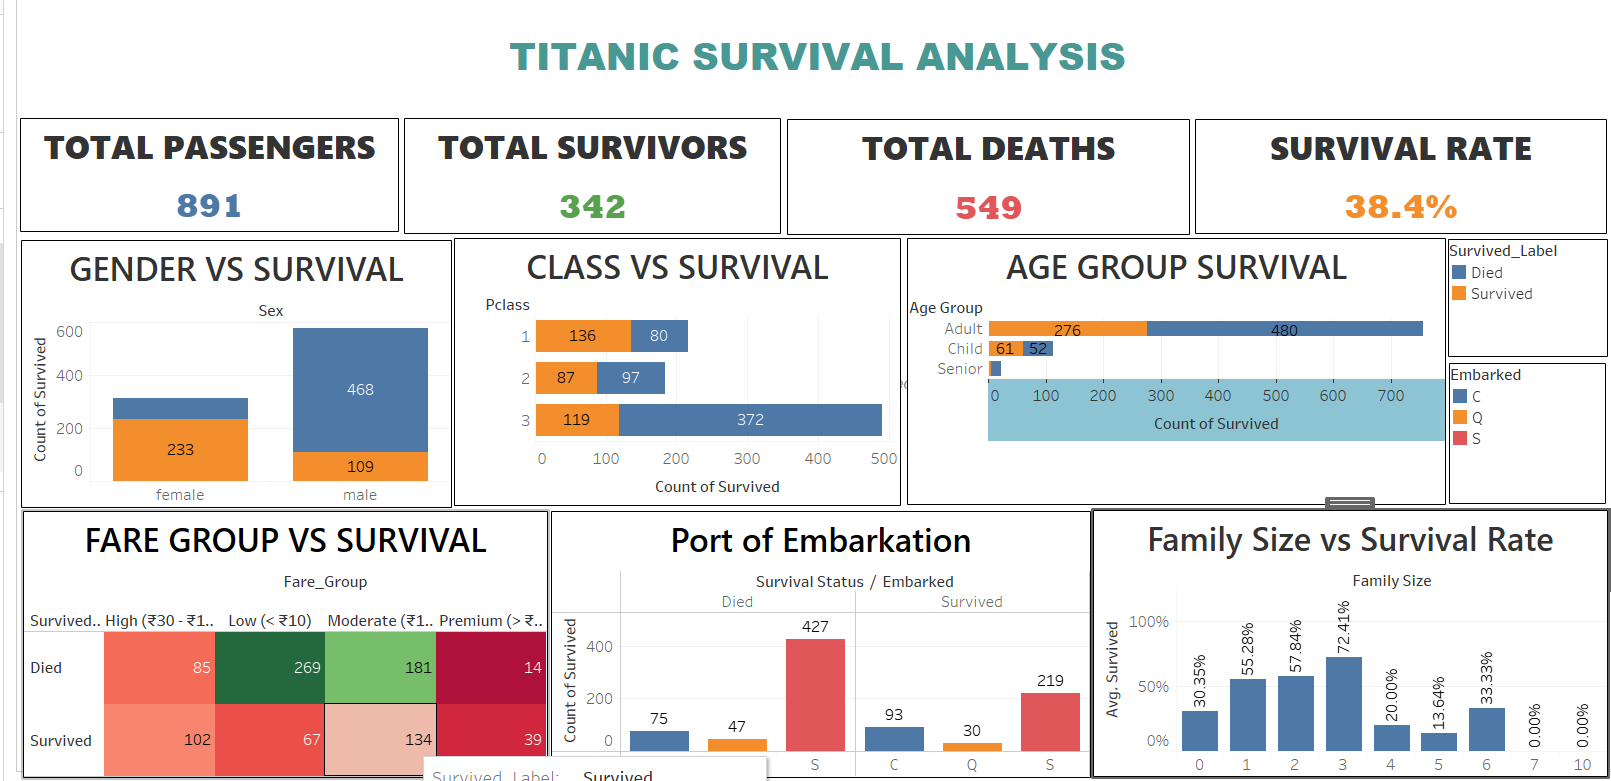

The dashboard page shown, as its layout file describes it:
{"tool":"tableau","page":{"name":"Dashboard 1","canvas":[1000,1000],"units":"permille","ordinal":0},"visuals":[{"type":"image","box":[4.9,10,990.1,980]},{"type":"text","box":[8,26.2,988.3,132.2]},{"type":"worksheet","title":"Total Passengers","mark":"Text","box":[9.9,169.6,234,142.1]},{"type":"worksheet","title":"Total Survivors","mark":"Text","box":[246.9,169.6,232.7,144.6]},{"type":"worksheet","title":"Total Deaths","mark":"Text","box":[483.3,170.8,248.8,144.6]},{"type":"worksheet","title":"Survival Rate","mark":"Text","box":[735.2,170.8,254.3,143.4]},{"type":"worksheet","title":"Class Vs Survival","mark":"Automatic","rows":["Pclass"],"cols":["Survived"],"box":[277.8,319.2,275.9,334.2]},{"type":"worksheet","title":"AGE GROUP SURVIVAL","mark":"Automatic","rows":["AgeGroup"],"cols":["Survived"],"box":[557.4,319.2,332.7,332.9]},{"type":"legend","title":"Gender Vs Survival","param":"[federated.05ukh8g14bf3x41dbr9s61lwwfgf].[none:Calculation_1446499925674323968:n","box":[891.4,320.4,98.8,147.1]},{"type":"worksheet","title":"Gender Vs Survival","mark":"Automatic","rows":["Survived"],"cols":["Sex"],"box":[10.5,321.7,266.1,334.2]},{"type":"legend","title":"Port of Embarkation","param":"[federated.05ukh8g14bf3x41dbr9s61lwwfgf].[none:Embarked:nk]","box":[892,475.1,96.9,175.8]},{"type":"worksheet","title":"Family Size vs Survival Rate","mark":"Automatic","rows":["Survived"],"cols":["FamilySize"],"box":[672.2,658.4,317.9,332.9]},{"type":"worksheet","title":"Fare Group vs Survival","mark":"Square","rows":["Calculation_1446499925674323968"],"cols":["Calculation_1446499925674528769"],"box":[11.7,659.6,324.1,332.9]},{"type":"worksheet","title":"Port of Embarkation","mark":"Automatic","rows":["Survived"],"cols":["SurvivalStatus","Embarked"],"box":[337.7,659.6,333.3,332.9]}]}

Visuals, with their boxes on the dashboard's canvas, which has no fixed pixel size, in thousandths of its width and height (x1, y1, x2, y2). These are canvas units, not pixel positions in the 1611x781 screenshot, which may show the page scaled, cropped or inside an application window:
image: x1=5 y1=10 x2=995 y2=990
text: x1=8 y1=26 x2=996 y2=158
"Total Passengers" worksheet (Text marks): x1=10 y1=170 x2=244 y2=312
"Total Survivors" worksheet (Text marks): x1=247 y1=170 x2=480 y2=314
"Total Deaths" worksheet (Text marks): x1=483 y1=171 x2=732 y2=315
"Survival Rate" worksheet (Text marks): x1=735 y1=171 x2=990 y2=314
"Class Vs Survival" worksheet: x1=278 y1=319 x2=554 y2=653
"AGE GROUP SURVIVAL" worksheet: x1=557 y1=319 x2=890 y2=652
"Gender Vs Survival" legend: x1=891 y1=320 x2=990 y2=468
"Gender Vs Survival" worksheet: x1=10 y1=322 x2=277 y2=656
"Port of Embarkation" legend: x1=892 y1=475 x2=989 y2=651
"Family Size vs Survival Rate" worksheet: x1=672 y1=658 x2=990 y2=991
"Fare Group vs Survival" worksheet (Square marks): x1=12 y1=660 x2=336 y2=992
"Port of Embarkation" worksheet: x1=338 y1=660 x2=671 y2=992
